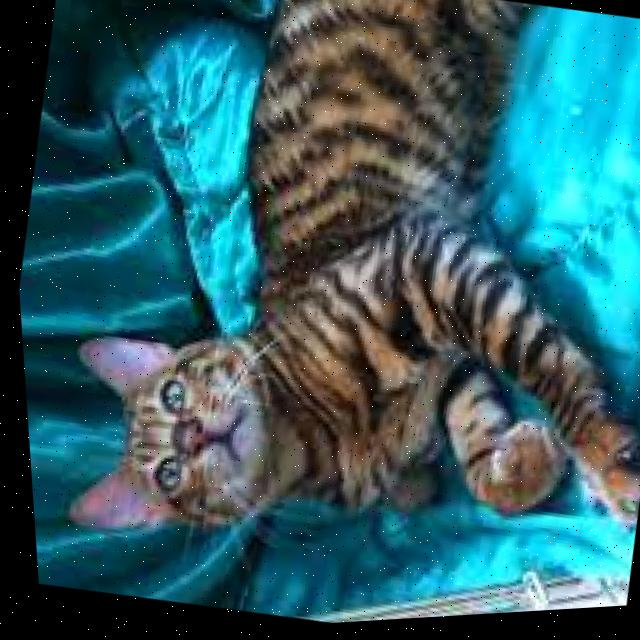Toyger: (14, 0, 640, 637)
